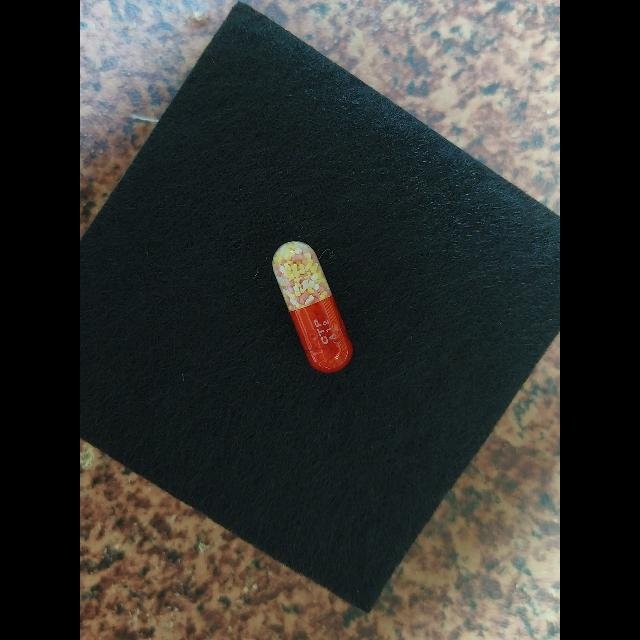Intact Capsule: (273, 241, 353, 373)
